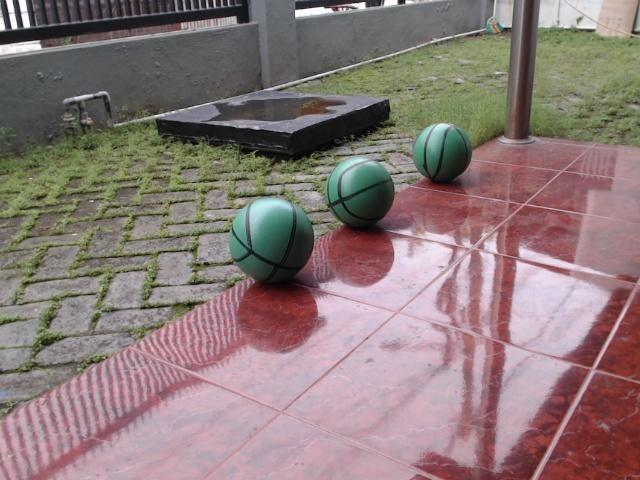Sports-Ball: (228, 200, 313, 282), (325, 155, 397, 233), (412, 117, 472, 183)
